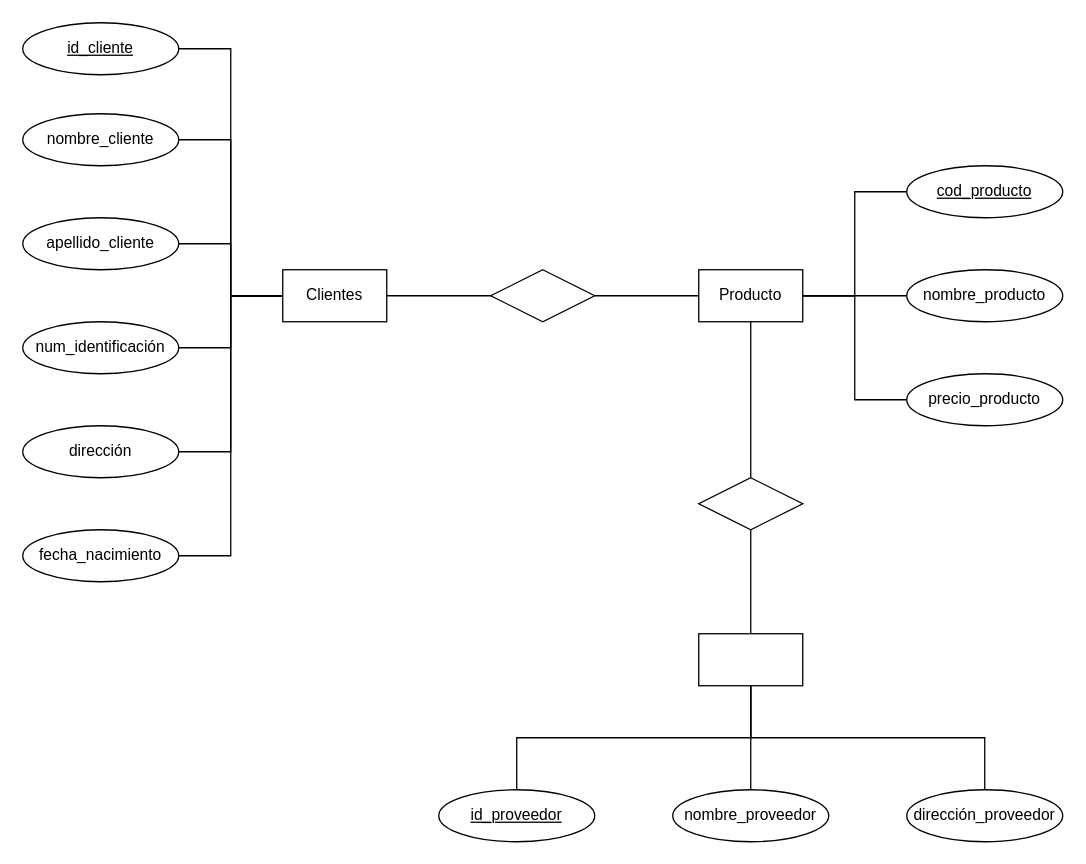
The diagram is 1086 pixels wide and 864 high, and some of its shapes have lost their labels. Each missing label, with the centre of its shape:
compra: the point at 542,295
Proveedor: the point at 750,659
suministra: the point at 750,503
